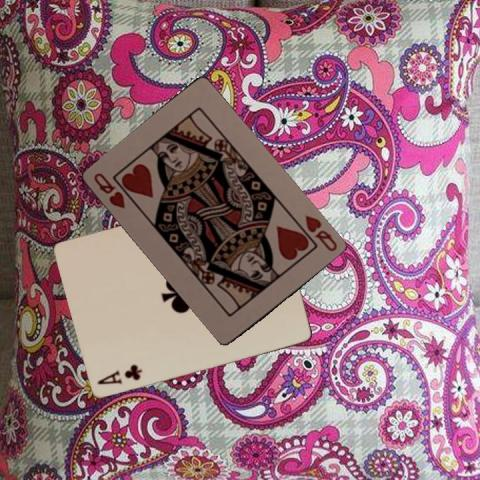Ac: (94, 362, 143, 387)
Qh: (302, 212, 339, 253), (91, 169, 127, 210)
